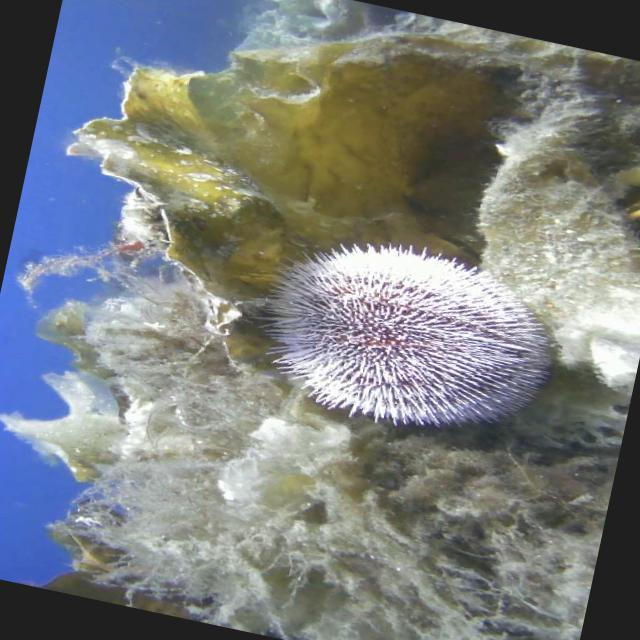Deniz Kestanesi: (228, 212, 568, 456)
